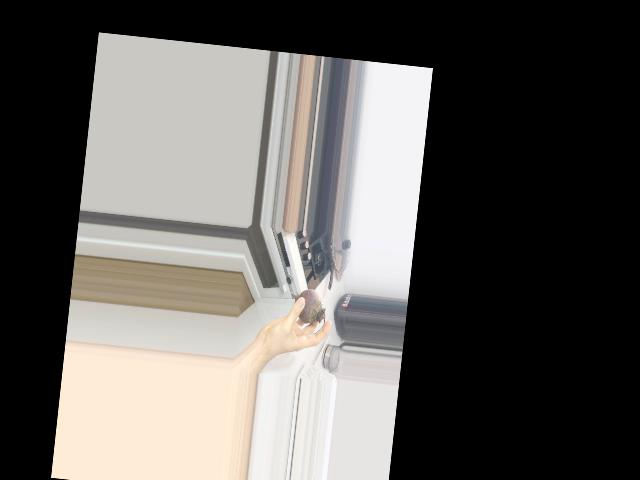beet: (286, 286, 327, 334)
